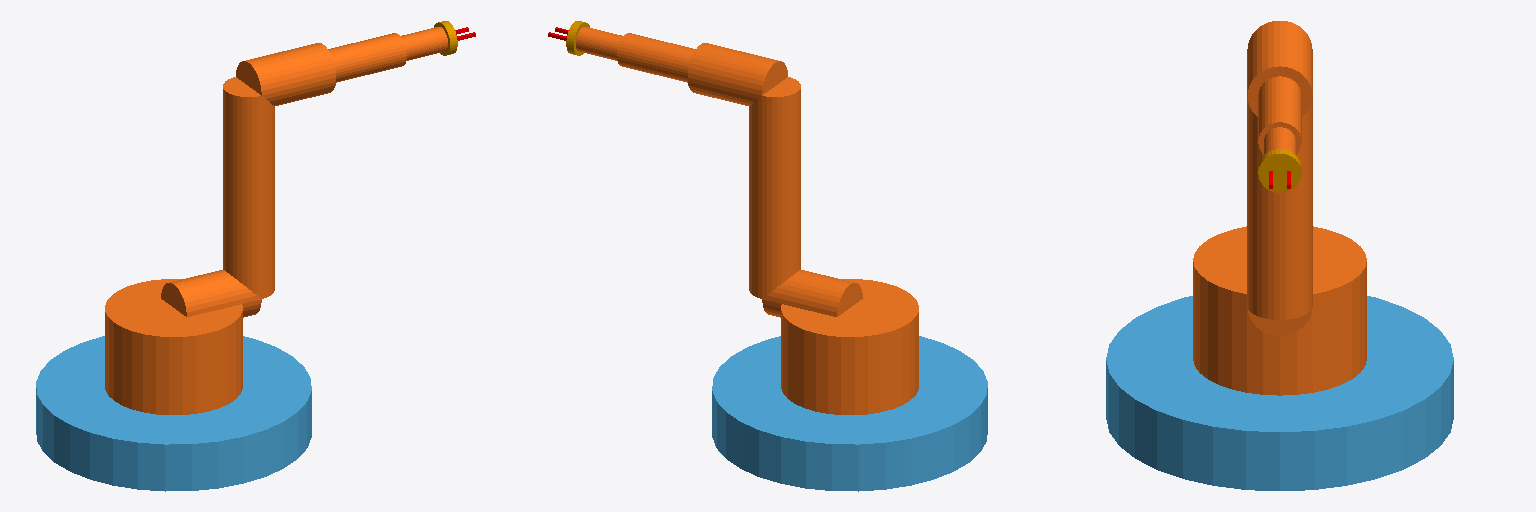
robot.urdf — robot_arm:
<?xml version="1.0"?>

<robot name="robot_arm">
    <link name="world"/>

    <!-- BASE LINK-->
    <link name="base_link">
        <visual>
            <geometry>
                <cylinder radius="0.8" length="0.3"/>
            </geometry>
            <material name="Black"/>
            <origin xyz="0.0 0.0 0.15" rpy="0.0 0.0 0.0"/>
        </visual>
        <collision>
            <geometry>
                <cylinder radius="0.8" length="0.3"/>
            </geometry>
            <origin xyz="0.0 0.0 0.15" rpy="0.0 0.0 0.0"/>
        </collision>
        <inertial>
            <mass value="1"/>
            <origin xyz="0.0 0.0 0.15"/>
            <inertia ixx="0.0027" izz="0.005" iyy="0.0027" ixy="0.0" ixz="0.0"  iyz="0.0" />
        </inertial>
    </link>

    <joint name="fixed_base" type="fixed">
        <parent link="world"/>
        <child link="base_link"/>
        
    </joint>

    <!-- FIRST LINK-->
    <link name="First">
        <visual>
            <geometry>
                <cylinder radius="0.4" length="0.5"/>
            </geometry>
            <material name="Orange">
                <color rgba="1.0 0.5 0.15 1.0"/>
            </material>
            <origin xyz="0.0 0.0 0.25" rpy="0.0 0.0 0.0"/>
        </visual>
        <collision>
            <geometry>
                <cylinder radius="0.4" length="0.5"/>
            </geometry>
            <origin xyz="0.0 0.0 0.25" rpy="0.0 0.0 0.0"/>
        </collision>
        <inertial>
            <mass value="50"/>
            <origin xyz="0.0 0.0 0.25" rpy="0.0 0.0 0.0"/>
            <inertia ixx="3.04166545" izz="4.0" iyy="3.04166545" ixy="0.0" ixz="0.0"  iyz="0.0" />
        </inertial>
    </link>

    <joint name="First_joint" type="continuous">
        <limit lower="-3.14" upper="3.14" effort="100.0" velocity="1.0"/>
        <parent link="base_link"/>
        <child link="First"/>
        <axis xyz="0.0 0.0 1"/>
        <origin xyz="0.0 0.0 0.3" rpy="0.0 0.0 0.0"/>
        
    </joint>

    <!-- SECOND LINK-->
    <link name="Second">
        <visual>
            <geometry>
                <cylinder radius="0.15" length="0.5"/>
            </geometry>
            <material name="Orange">
                <color rgba="1.0 0.5 0.15 1.0"/>
            </material>
            <origin xyz="0.0 0.0 0.25" rpy="0.0 0.0 0.0"/>
        </visual>
        <collision>
            <geometry>
                <cylinder radius="0.3" length="0.5"/>
            </geometry>
            <origin xyz="0.0 0.0 0.25" rpy="0.0 0.0 0.0"/>
        </collision>
        <inertial>
            <mass value="10"/>
            <origin xyz="0.0 0.0 0.25" rpy="0.0 0.0 0.0"/>
            <inertia ixx="0.264583228" izz="0.1125" iyy="0.264583228" ixy="0.0" ixz="0.0"  iyz="0.0" />
        </inertial>
    </link>

    <joint name="Second_joint" type="fixed">
        <parent link="First"/>
        <child link="Second"/>
        <axis xyz="0.0 0.0 1"/>
        <origin xyz="0.0 0 0.5" rpy="0.0 1.5708 0"/>        
    </joint>

    <!-- THIRD LINK-->
    <link name="Third">
        <visual>
            <geometry>
                <cylinder radius="0.15" length="1.3"/>
            </geometry>
            <material name="Orange">
                <color rgba="1.0 0.5 0.15 1.0"/>
            </material>
            <origin xyz="0.0 0.0 0.65" rpy="0.0 0.0 0.0"/>
        </visual>
        <collision>
            <geometry>
                <cylinder radius="0.3" length="1.3"/>
            </geometry>
            <origin xyz="0.0 0.0 0.65" rpy="0.0 0.0 0.0"/>
        </collision>
        <inertial>
            <mass value="10"/>
            <origin xyz="0.0 0.0 0.65" rpy="0.0 0.0 0.0"/>
            <inertia ixx="1.464582748" izz="0.1125" iyy="1.464582748" ixy="0.0" ixz="0.0"  iyz="0.0" />
        </inertial>
    </link>

    <joint name="Third_joint" type="continuous">
        <limit lower="-3.14" upper="3.14" effort="3000.0" velocity="1.0"/>
        <parent link="Second"/>
        <child link="Third"/>
        <axis xyz="0 1 0"/>
        <origin xyz="0.0 0 0.5" rpy="0.0 -1.5708 0"/>        
    </joint>

    <!-- FOURTH LINK-->
    <link name="Fourth">
        <visual>
            <geometry>
                <cylinder radius="0.15" length="0.5"/>
            </geometry>
            <material name="Orange">
                <color rgba="1.0 0.5 0.15 1.0"/>
            </material>
            <origin xyz="0.0 0.0 0.25" rpy="0.0 0.0 0.0"/>
        </visual>
        <collision>
            <geometry>
                <cylinder radius="0.15" length="0.5"/>
            </geometry>
            <origin xyz="0.0 0.0 0.25" rpy="0.0 0.0 0.0"/>
        </collision>
        <inertial>
            <mass value="7"/>
            <origin xyz="0.0 0.0 0.25" rpy="0.0 0.0 0.0"/>
            <inertia ixx="0.185208259" izz="0.07875" iyy="0.185208259" ixy="0.0" ixz="0.0"  iyz="0.0" />
        </inertial>
    </link>

    <joint name="Fourth_joint" type="continuous">
        <limit lower="-3.14" upper="3.14" effort="1000.0" velocity="1.0"/>
        <parent link="Third"/>
        <child link="Fourth"/>
        <axis xyz="0 1 0"/>
        <origin xyz="0.0 0 1.3" rpy="0.0 1.5708 0"/>        
    </joint>


    <!-- FIFTH LINK-->
    <link name="Fifth">
        <visual>
            <geometry>
                <cylinder radius="0.1" length="0.5"/>
            </geometry>
            <material name="Orange">
                <color rgba="1.0 0.5 0.15 1.0"/>
            </material>
            <origin xyz="0.0 0.0 0.25" rpy="0.0 0.0 0.0"/>
        </visual>
        <collision>
            <geometry>
                <cylinder radius="0.1" length="0.5"/>
            </geometry>
            <origin xyz="0.0 0.0 0.25" rpy="0.0 0.0 0.0"/>
        </collision>
        <inertial>
            <mass value="2"/>
            <origin xyz="0.0 0.0 0.25" rpy="0.0 0.0 0.0"/>
            <inertia ixx="0.046666648" izz="0.001" iyy="0.046666648" ixy="0.0" ixz="0.0"  iyz="0.0" />
        </inertial>
    </link>

    <joint name="Fifth_joint" type="continuous">
        <limit lower="-3.14" upper="3.14" effort="100.0" velocity="1.0"/>
        <parent link="Fourth"/>
        <child link="Fifth"/>
        <axis xyz="0 0 1"/>
        <origin xyz="0.0 0 0.5" rpy="0.0 0 0"/>        
    </joint>

    <!-- SIXTH LINK-->
    <link name="Sixth">
        <visual>
            <geometry>
                <cylinder radius="0.075" length="0.29"/>
            </geometry>
            <material name="Orange">
                <color rgba="1.0 0.5 0.15 1.0"/>
            </material>
            <origin xyz="0.0 0.0 0.145" rpy="0.0 0.0 0.0"/>
        </visual>
        <collision>
            <geometry>
                <cylinder radius="0.075" length="0.29"/>
            </geometry>
            <origin xyz="0.0 0.0 0.145" rpy="0.0 0.0 0.0"/>
        </collision>
        <inertial>
            <mass value="0.5"/>
            <origin xyz="0.0 0.0 0.145" rpy="0.0 0.0 0.0"/>
            <inertia ixx="0.00420729" izz="0.00140625" iyy="0.00420729" ixy="0.0" ixz="0.0"  iyz="0.0" />
        </inertial>
    </link>

    <joint name="Sixth_joint" type="continuous">
        <limit lower="-3.14" upper="3.14" effort="100.0" velocity="1.0"/>
        <parent link="Fifth"/>
        <child link="Sixth"/>
        <axis xyz="0 1 0"/>
        <origin xyz="0.0 0 0.5" rpy="0.0 0 0"/>        
    </joint>


    <!-- GRIPPER_BASE LINK-->
    <link name="Gripper_Base">
        <visual>
            <geometry>
                <cylinder radius="0.1" length="0.05"/>
            </geometry>
            <material name="Black"/>
            <origin xyz="0.0 0.0 0.025" rpy="0.0 0.0 0.0"/>
        </visual>
        <collision>
            <geometry>
                <cylinder radius="0.08" length="0.05"/>
            </geometry>
            <origin xyz="0.0 0.0 0.025" rpy="0.0 0.0 0.0"/>
        </collision>
        <inertial>
            <mass value="0.3"/>
            <origin xyz="0.0 0.0 0.025" rpy="0.0 0.0 0.0"/>
            <inertia ixx="0.0008125" izz="0.0015" iyy="0.0008125" ixy="0.0" ixz="0.0"  iyz="0.0" />
        </inertial>
    </link>

    <joint name="Gripper_Base_joint" type="continuous">
        <limit lower="-3.14" upper="3.14" effort="100.0" velocity="1.0"/>
        <parent link="Sixth"/>
        <child link="Gripper_Base"/>
        <axis xyz="0.0 0.0 1"/>
        <origin xyz="0.0 0 0.29" rpy="0.0 0 0"/>        
    </joint>

    <!-- LEFT FINGER LINK-->
    <link name="Left_Finger">
        <visual>
            <geometry>
                <box size="0.02 0.02 0.15"/>
            </geometry>
            <material name="Red">
                <color rgba="1.0 0.0 0.0 1.0"/>
            </material>
            <origin xyz="0.0 0.0 0.075" rpy="0.0 0.0 0.0"/>
        </visual>
        <collision>
            <geometry>
                <box size="0.02 0.02 0.15"/>
            </geometry>
            <origin xyz="0.0 0.0 0.075" rpy="0.0 0.0 0.0"/>
        </collision>
        <inertial>
            <mass value="0.1"/>
            <origin xyz="0.0 0.0 0.075" rpy="0.0 0.0 0.0"/>
            <inertia ixx="0.00019" izz="0.000005" iyy="0.00019" ixy="0.0" ixz="0.0"  iyz="0.0" />
        </inertial>
    </link>

    <joint name="Left_Finger_joint" type="prismatic">
        <limit lower="-0.02" upper="0.02" effort="100.0" velocity="1.0"/>
        <parent link="Gripper_Base"/>
        <child link="Left_Finger"/>
        <axis xyz="0.0 1 0"/>
        <origin xyz="0.0 -0.04 0.05" />        
    </joint>

    <!-- RIGHT FINGER LINK-->
    <link name="Right_Finger">
        <visual>
            <geometry>
                <box size="0.02 0.02 0.15"/>
            </geometry>
                <material name="Red">
                    <color rgba="1.0 0.0 0.0 1.0"/>
                </material>
            <origin xyz="0.0 0.0 0.075" rpy="0.0 0.0 0.0"/>
        </visual>
        <collision>
            <geometry>
                <box size="0.02 0.02 0.15"/>
            </geometry>
            <origin xyz="0.0 0.0 0.075" rpy="0.0 0.0 0.0"/>
        </collision>
        <inertial>
            <mass value="0.1"/>
            <origin xyz="0.0 0.0 0.075" rpy="0.0 0.0 0.0"/>
            <inertia ixx="0.00019" izz="0.000005" iyy="0.00019" ixy="0.0" ixz="0.0"  iyz="0.0" />
        </inertial>
    </link>

    <joint name="Right_Finger_joint" type="prismatic">
        <limit lower="-0.02" upper="0.02" effort="100.0" velocity="1.0"/>
        <parent link="Gripper_Base"/>
        <child link="Right_Finger"/>
        <axis xyz="0.0 -1 0"/>
        <origin xyz="0.0 0.04 0.05" />        
    </joint>

    
    <!--TRANSMISSIONS-->
    <!--First-->
    <transmission name ="Transmission_1">
        <type>transmission_interface/SimpleTransmission</type>
        <joint name="First_joint">
            <hardwareInterface>hardware_interface/PositionJointInterface</hardwareInterface>
        </joint>
        <actuator name="Motor1">
            <hardwareInterface>hardware_interface/PositionJointInterface</hardwareInterface>
            <mechanicalReduction>1</mechanicalReduction>
        </actuator>
    </transmission>

    <!--Third-->
    <transmission name ="Transmission_3">
        <type>transmission_interface/SimpleTransmission</type>
        <joint name="Third_joint">
            <hardwareInterface>hardware_interface/PositionJointInterface</hardwareInterface>
        </joint>
        <actuator name="Motor3">
            <hardwareInterface>hardware_interface/PositionJointInterface</hardwareInterface>
            <mechanicalReduction>1</mechanicalReduction>
        </actuator>
    </transmission>


    <!--Fourth-->
    <transmission name="Transmission_4">
        <type>transmission_interface/SimpleTransmission</type>
        <joint name="Fourth_joint">
            <hardwareInterface>hardware_interface/PositionJointInterface</hardwareInterface>
        </joint>
        <actuator name="Motor4">
            <hardwareInterface>hardware_interface/PositionJointInterface</hardwareInterface>
            <mechanicalReduction>1</mechanicalReduction>
        </actuator>
    </transmission>

    <!--Fifth-->
    <transmission name="Transmission_5">
        <type>transmission_interface/SimpleTransmission</type>
        <joint name="Fifth_joint">
            <hardwareInterface>hardware_interface/PositionJointInterface</hardwareInterface>
        </joint>
        <actuator name="Motor5">
            <hardwareInterface>hardware_interface/PositionJointInterface</hardwareInterface>
            <mechanicalReduction>1</mechanicalReduction>
        </actuator>
    </transmission>

    <!--Sixth-->
    <transmission name="Transmission_6">
        <type>transmission_interface/SimpleTransmission</type>
        <joint name="Sixth_joint">
            <hardwareInterface>hardware_interface/PositionJointInterface</hardwareInterface>
        </joint>
        <actuator name="Motor6">
            <hardwareInterface>hardware_interface/PositionJointInterface</hardwareInterface>
            <mechanicalReduction>1</mechanicalReduction>
        </actuator>
    </transmission>

    <!--Gripper base-->
    <transmission name="Transmission_7">
        <type>transmission_interface/SimpleTransmission</type>
        <joint name="Gripper_Base_joint">
            <hardwareInterface>hardware_interface/PositionJointInterface</hardwareInterface>
        </joint>
        <actuator name="Motor7">
            <hardwareInterface>hardware_interface/PositionJointInterface</hardwareInterface>
            <mechanicalReduction>1</mechanicalReduction>
        </actuator>
    </transmission>

    <!--Left finger-->
    <transmission name="Transmission_8">
        <type>transmission_interface/SimpleTransmission</type>
        <joint name="Left_Finger_joint">
            <hardwareInterface>hardware_interface/PositionJointInterface</hardwareInterface>
        </joint>
        <actuator name="Motor8">
            <hardwareInterface>hardware_interface/PositionJointInterface</hardwareInterface>
            <mechanicalReduction>1</mechanicalReduction>
        </actuator>
    </transmission>

    <!--Right finger-->
    <transmission name="Transmission_9">
        <type>transmission_interface/SimpleTransmission</type>
        <joint name="Right_Finger_joint">
            <hardwareInterface>hardware_interface/PositionJointInterface</hardwareInterface>
        </joint>
        <actuator name="Motor9">
            <hardwareInterface>hardware_interface/PositionJointInterface</hardwareInterface>
            <mechanicalReduction>1</mechanicalReduction>
        </actuator>
    </transmission>


    <gazebo>
        <plugin name="gazebo_ros_control" filename="libgazebo_ros_control.so">
            <robotNamespace>/robot_arm</robotNamespace>
        </plugin>
    </gazebo>        
    

    <gazebo>
        <plugin name="joint_state_publisher" filename="libgazebo_ros_joint_state_publisher.so">
            <robotNamespace>/robot_arm</robotNamespace>
            <jointName>First_joint, Third_joint, Fourth_joint, Fifth_joint, Sixth_joint, Gripper_Base_joint, Left_Finger_joint, Right_Finger_joint</jointName>
            <updateRate>50</updateRate>
        </plugin>
    </gazebo>

    <gazebo reference="base_link">
        <material>Gazebo/Black</material>
    </gazebo>

    <gazebo reference="First">
        <material>Gazebo/Orange</material>
    </gazebo>

    <gazebo reference="Second">
        <material>Gazebo/Orange</material>
    </gazebo>

    <gazebo reference="Third">
        <material>Gazebo/Orange</material>
    </gazebo>

    <gazebo reference="Fourth">
        <material>Gazebo/Orange</material>
    </gazebo>

    <gazebo reference="Fifth">
        <material>Gazebo/Orange</material>
    </gazebo>

    <gazebo reference="Sixth">
        <material>Gazebo/Orange</material>
    </gazebo>

    <gazebo reference="Gripper_Base">
        <material>Gazebo/Black</material>
    </gazebo>

    <gazebo reference="Left_Finger">
        <material>Gazebo/Red</material>
    </gazebo>

    <gazebo reference="Right_Finger">
        <material>Gazebo/Red</material>
    </gazebo>

</robot>

--- Render facts (derived) ---
Views: 3 orthographic renders of the robot side by side, from view 1: azimuth 30°, elevation 25°; view 2: azimuth 150°, elevation 25°; view 3: azimuth 270°, elevation 25°.
Model robot_arm with 11 links and 10 joints (6 continuous, 2 prismatic, 2 fixed), rooted at world, posed every joint at zero.
Visible links, largest first — view 1: base_link, First, Third, Fourth, Second, Fifth, Sixth; view 2: base_link, First, Third, Fourth, Second, Fifth, Sixth; view 3: base_link, First, Third, Fourth, Fifth, Gripper_Base, Second, Sixth.
Link boxes in pixels (x1,y1,x2,y2): base_link: (36,336,311,491); First: (105,279,242,414); Third: (223,77,274,298); Fourth: (236,43,335,105); Second: (161,270,261,317); Fifth: (328,33,406,82); Sixth: (401,27,447,60); base_link: (712,336,987,491); First: (781,279,918,414); Third: (749,77,800,298); Fourth: (688,43,787,105); Second: (762,270,862,317); Fifth: (617,33,695,82); Sixth: (576,27,622,60); base_link: (1106,296,1453,490); First: (1193,226,1366,395); Third: (1247,97,1312,319); Fourth: (1247,21,1312,116); Fifth: (1258,76,1301,154); Gripper_Base: (1258,149,1301,192); Second: (1248,310,1311,335); Sixth: (1264,127,1295,154).
Size in the robot's own frame: 2.79 by 1.6 by 2.25 metres.
Geometry: primitives only (box / cylinder / sphere), no mesh files.